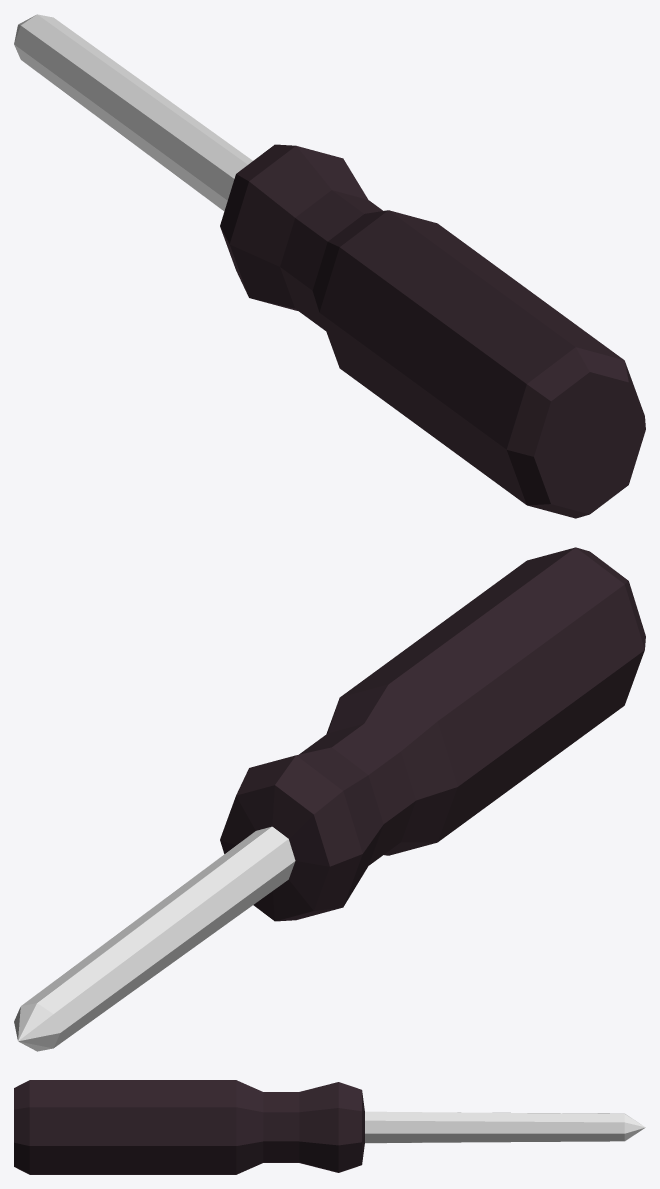
File: Screwdriver_02.fbx
3 views of the same model, one above another, from view 1: azimuth 30°, elevation 25°; view 2: azimuth 150°, elevation 25°; view 3: azimuth 270°, elevation 25° (orthographic). The views are drawn at different scales.
Parts seen in each view (by area): view 1: Screwdriver_02; view 2: Screwdriver_02; view 3: Screwdriver_02.
Part boxes in pixels (x1,y1,x2,y2): Screwdriver_02: [14, 14, 645, 518]; Screwdriver_02: [14, 547, 645, 1051]; Screwdriver_02: [14, 1080, 645, 1174].
Size of the model in its own units: 5.95 by 7.05 by 42.63.
